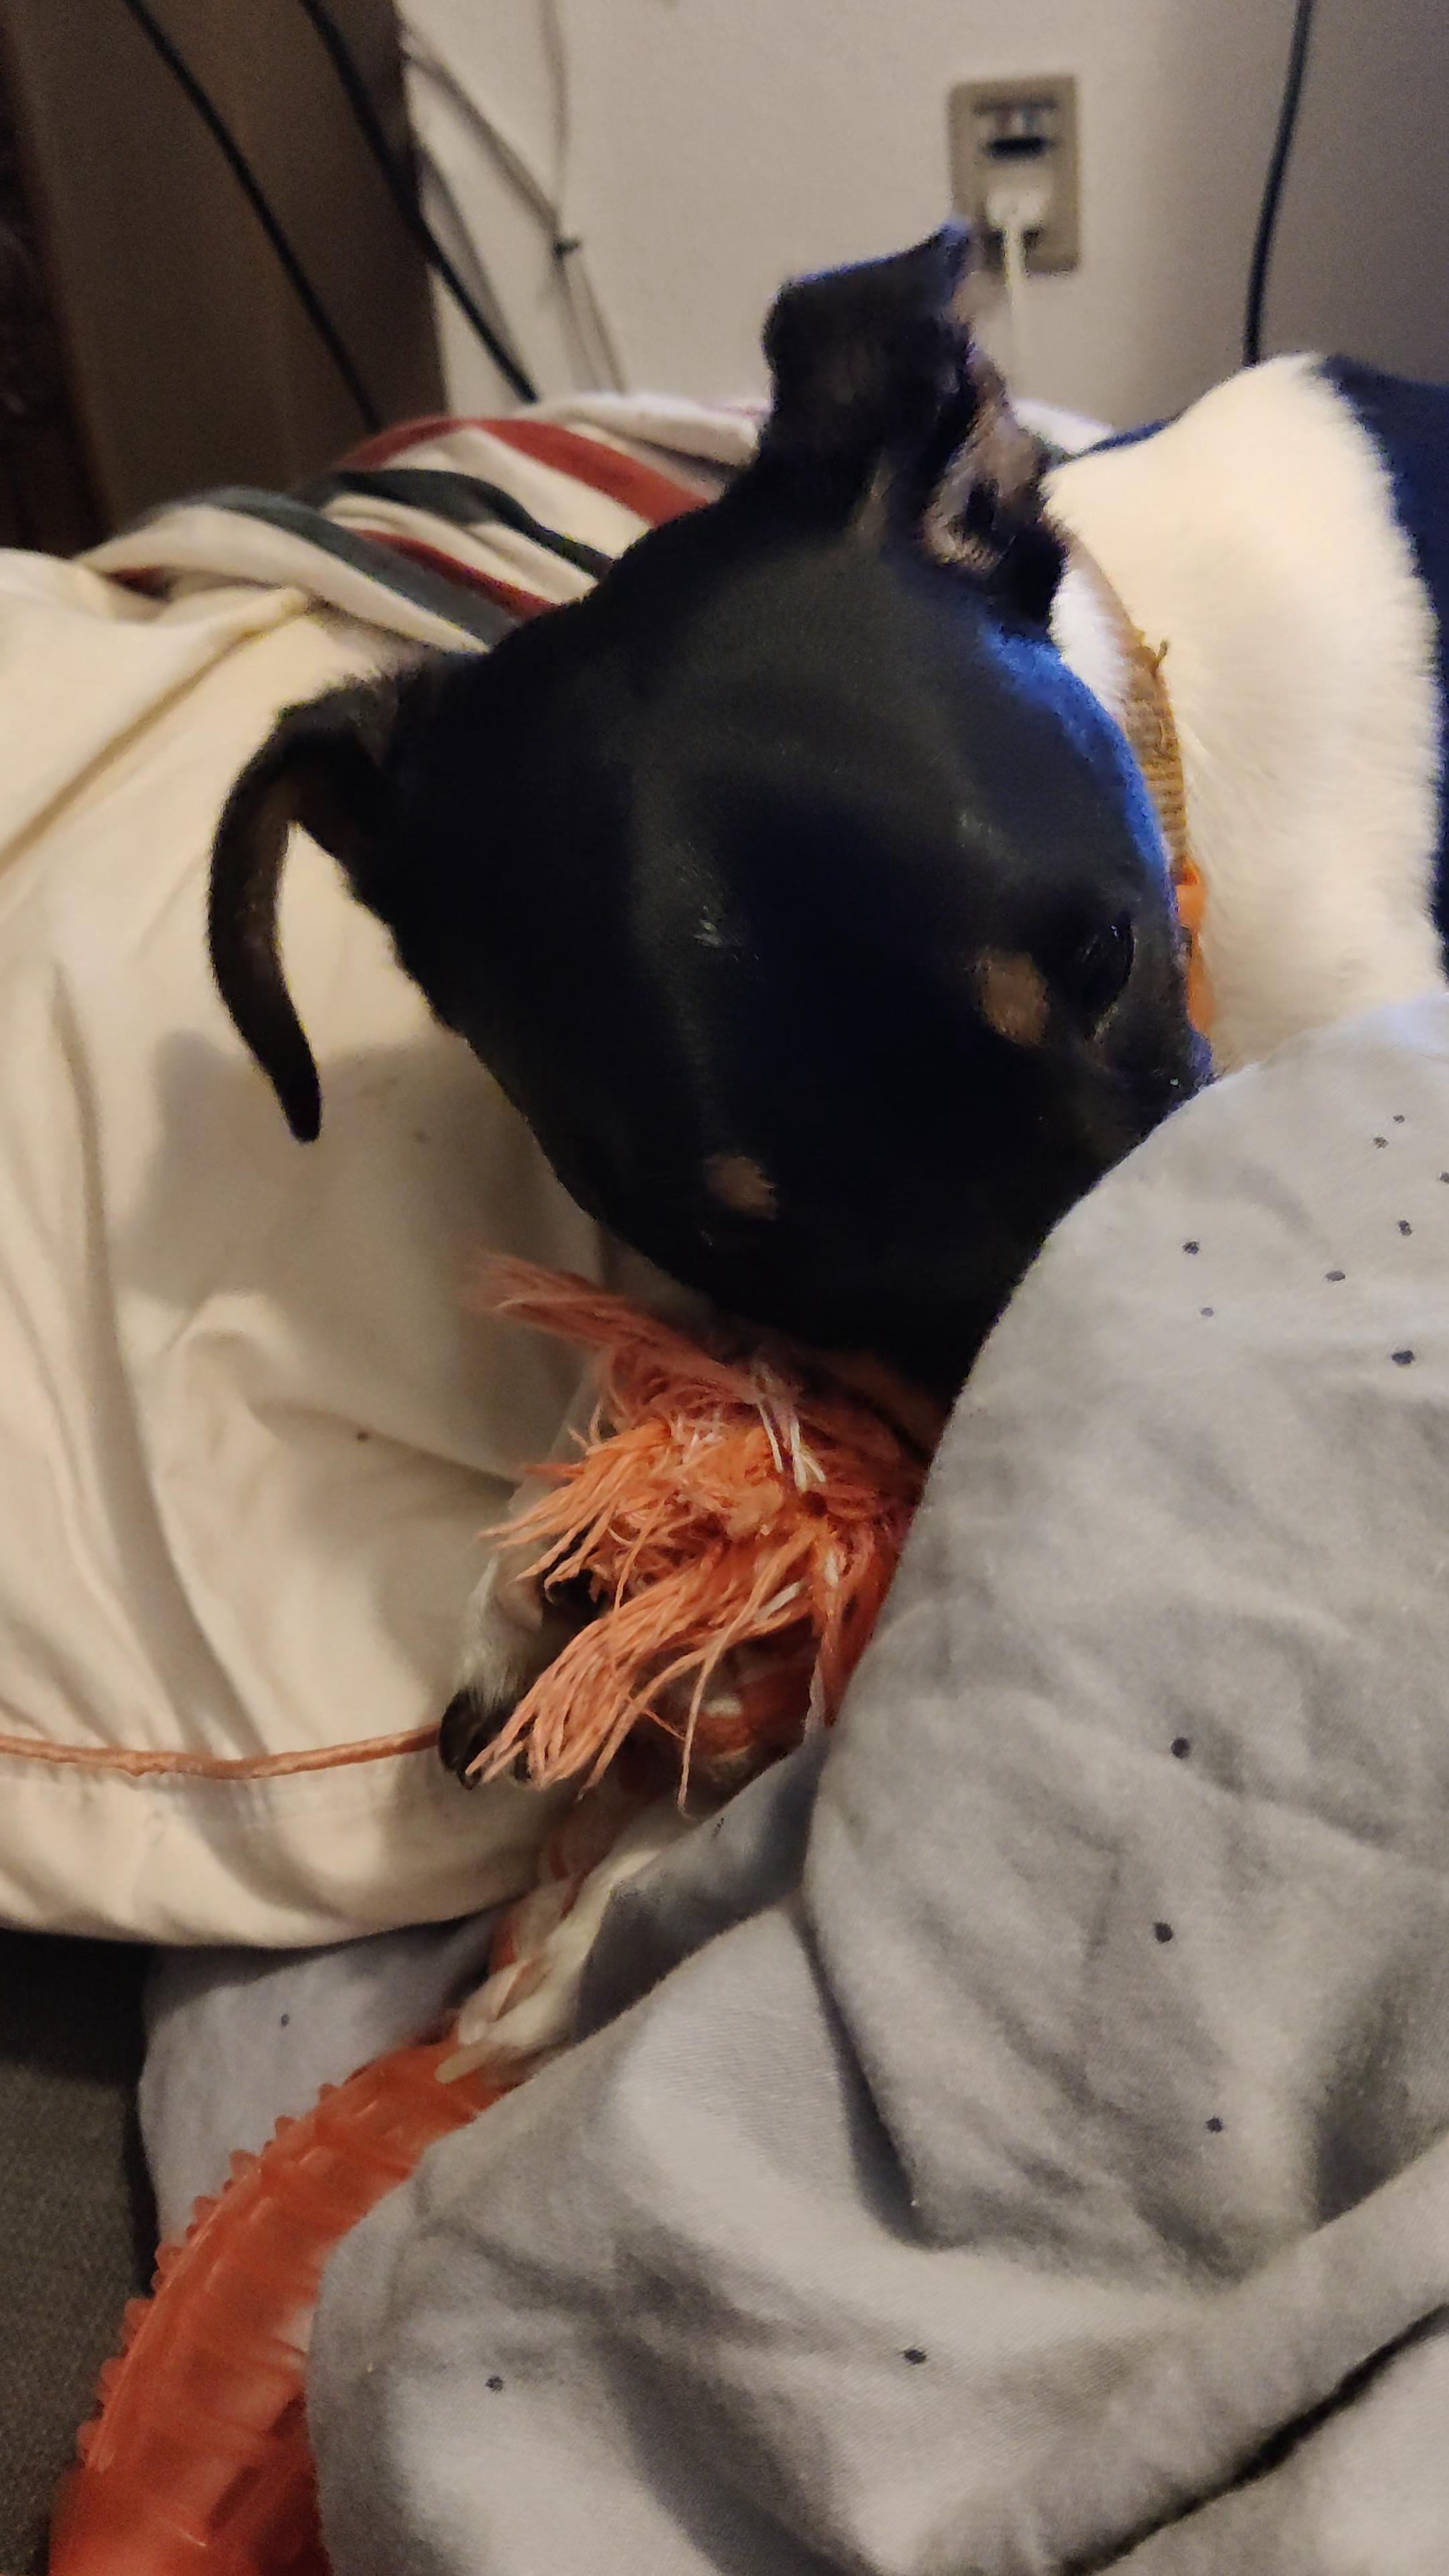Dog: (196, 212, 1449, 2116)
